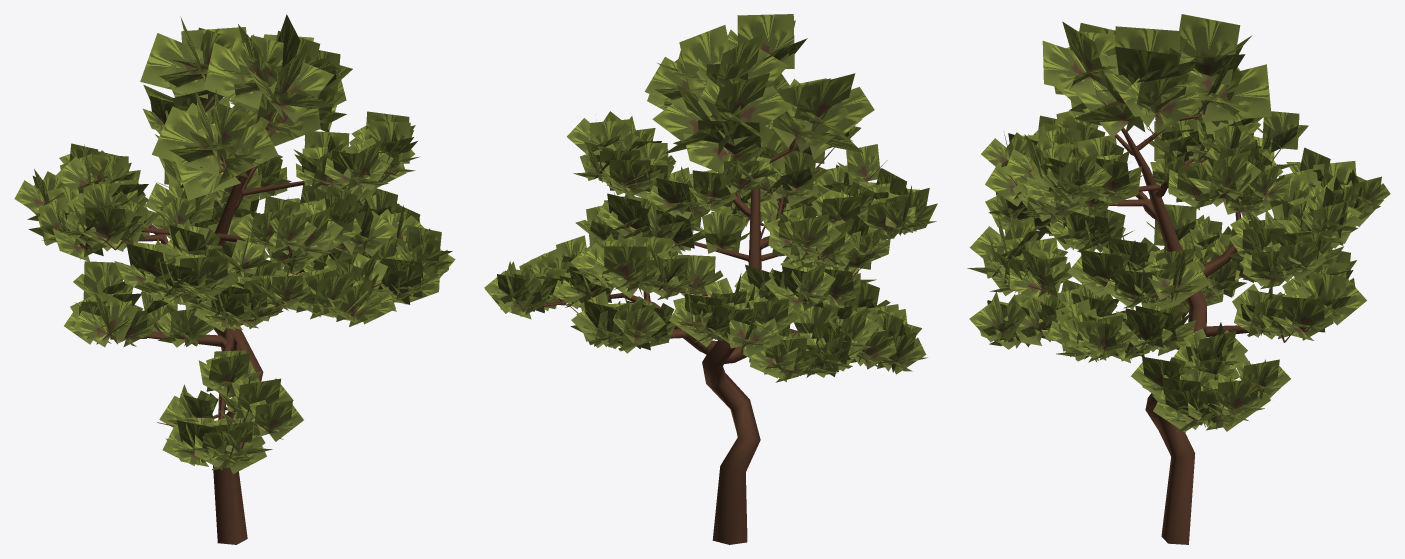
The model's file is Pine_Tree_3.fbx.
3 views of the same model, side by side, from view 1: azimuth 30°, elevation 25°; view 2: azimuth 150°, elevation 25°; view 3: azimuth 270°, elevation 25° (orthographic). The views are drawn at different scales.
Parts seen in each view (by area): view 1: Pine_Tree_3; view 2: Pine_Tree_3; view 3: Pine_Tree_3.
Boxes of the visible parts, x1,y1,x2,y2 form: Pine_Tree_3: [14, 14, 455, 544]; Pine_Tree_3: [484, 14, 937, 544]; Pine_Tree_3: [967, 14, 1390, 544].
Size of the model in its own units: 515 by 635 by 476.
Materials: 2 (2 with a texture image).
